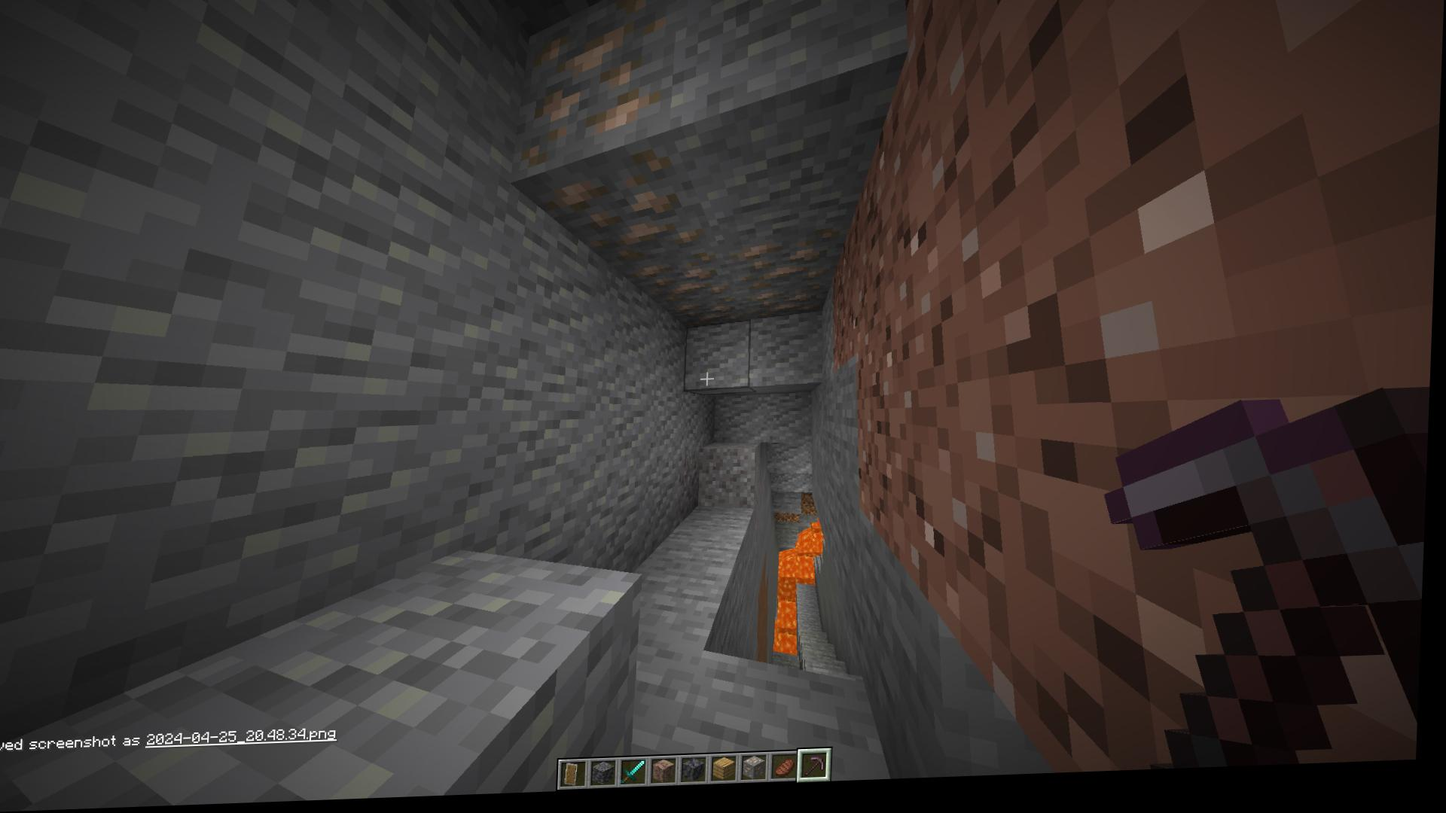iron ore: (529, 0, 659, 154), (545, 160, 711, 268), (741, 237, 842, 289), (640, 262, 736, 306), (753, 285, 832, 324), (675, 303, 753, 334)
